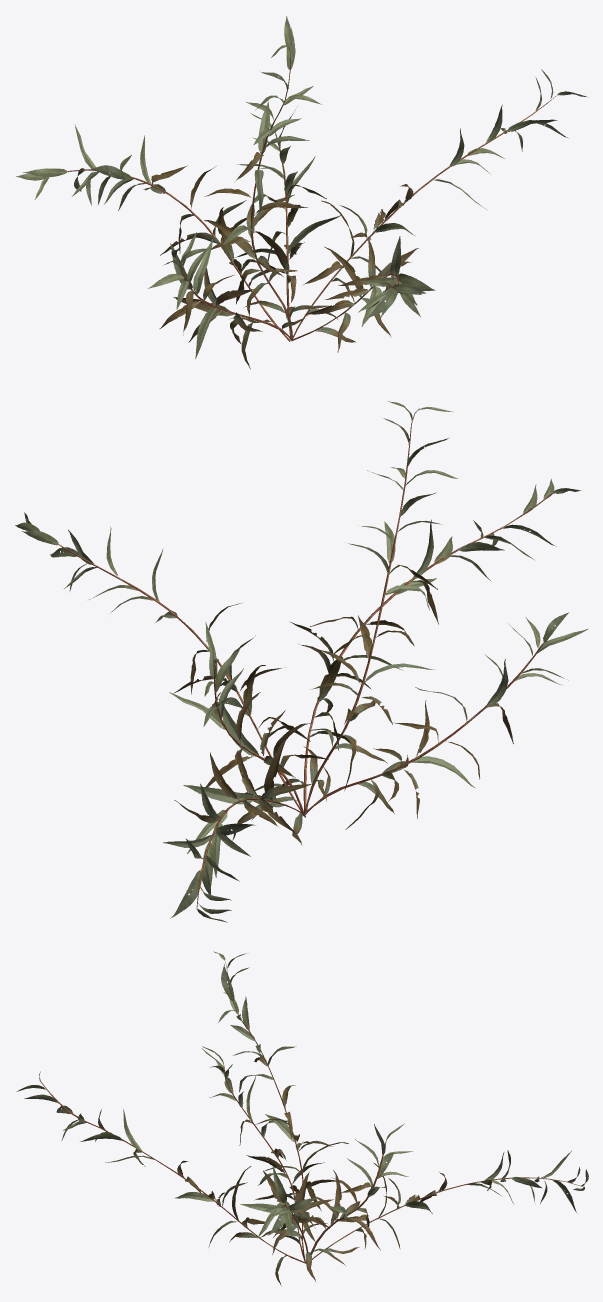
File: Scan_Shrub_C.fbx
3 views of the same model, one above another, from view 1: azimuth 30°, elevation 25°; view 2: azimuth 150°, elevation 25°; view 3: azimuth 270°, elevation 25° (orthographic). The views are drawn at different scales.
Visible parts, largest first — view 1: Scan_Shrub_C_LOD0; view 2: Scan_Shrub_C_LOD0; view 3: Scan_Shrub_C_LOD0.
Boxes of the visible parts, box(x1,y1,x2,y2) form: Scan_Shrub_C_LOD0: box(16, 16, 588, 369); Scan_Shrub_C_LOD0: box(15, 401, 588, 922); Scan_Shrub_C_LOD0: box(16, 951, 588, 1285).
Size of what is drawn, in the model's own units: 1.77 by 1.31 by 2.29.
